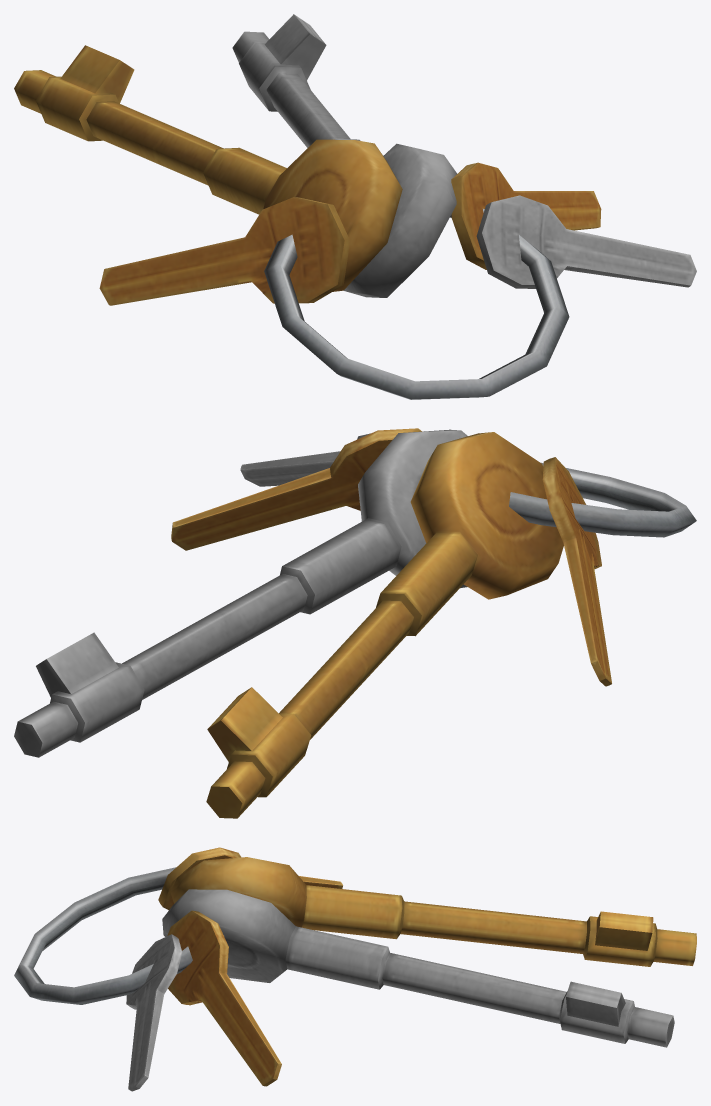
Rendered from ShenFuXiuXiShi_01_yaoshi_01.FBX.
3 renders of one model, top to bottom at view 1: azimuth 30°, elevation 25°; view 2: azimuth 150°, elevation 25°; view 3: azimuth 270°, elevation 25°, orthographic. The views are drawn at different scales.
Visible parts, largest first — view 1: ShenFuXiuXiShi_01_yaoshi_01; view 2: ShenFuXiuXiShi_01_yaoshi_01; view 3: ShenFuXiuXiShi_01_yaoshi_01.
Boxes of the visible parts, x1,y1,x2,y2 form: ShenFuXiuXiShi_01_yaoshi_01: [14, 14, 696, 399]; ShenFuXiuXiShi_01_yaoshi_01: [14, 428, 696, 818]; ShenFuXiuXiShi_01_yaoshi_01: [14, 847, 696, 1091].
Bounding box in the file's own units: 100 × 32.34 × 154.
